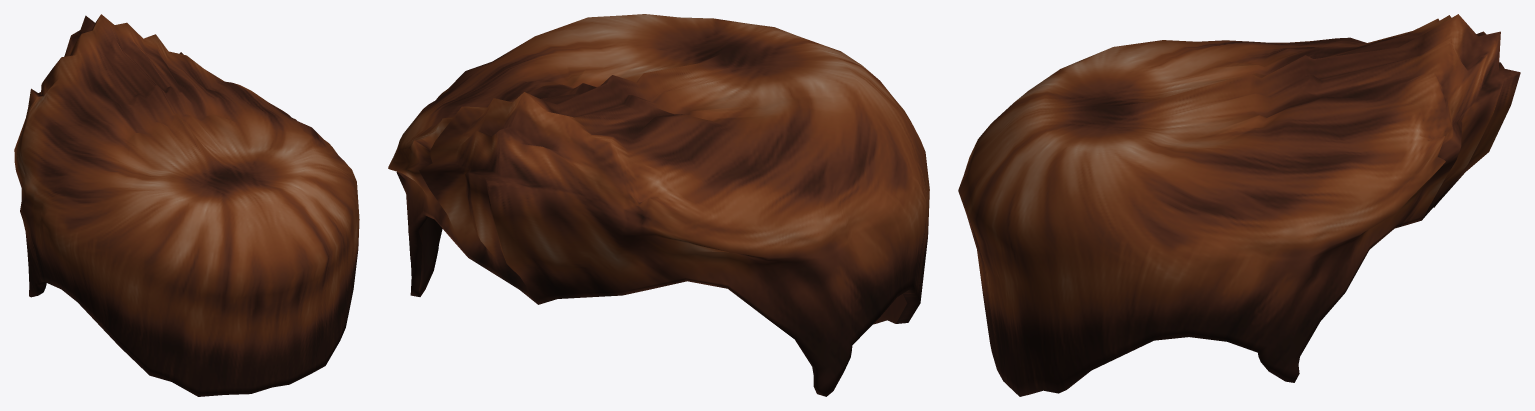
3 views of the same model, side by side, from view 1: azimuth 30°, elevation 25°; view 2: azimuth 150°, elevation 25°; view 3: azimuth 270°, elevation 25° (orthographic). The views are drawn at different scales.
Visible parts, largest first — view 1: geometry_0; view 2: geometry_0; view 3: geometry_0.
Part boxes in pixels (x1=…): geometry_0: x1=14, y1=14, x2=359, y2=396; geometry_0: x1=388, y1=14, x2=929, y2=396; geometry_0: x1=958, y1=14, x2=1520, y2=396.
Bounding box in the file's own units: 1.3 × 1.07 × 1.59.
Materials: 1 (1 with a texture image).
